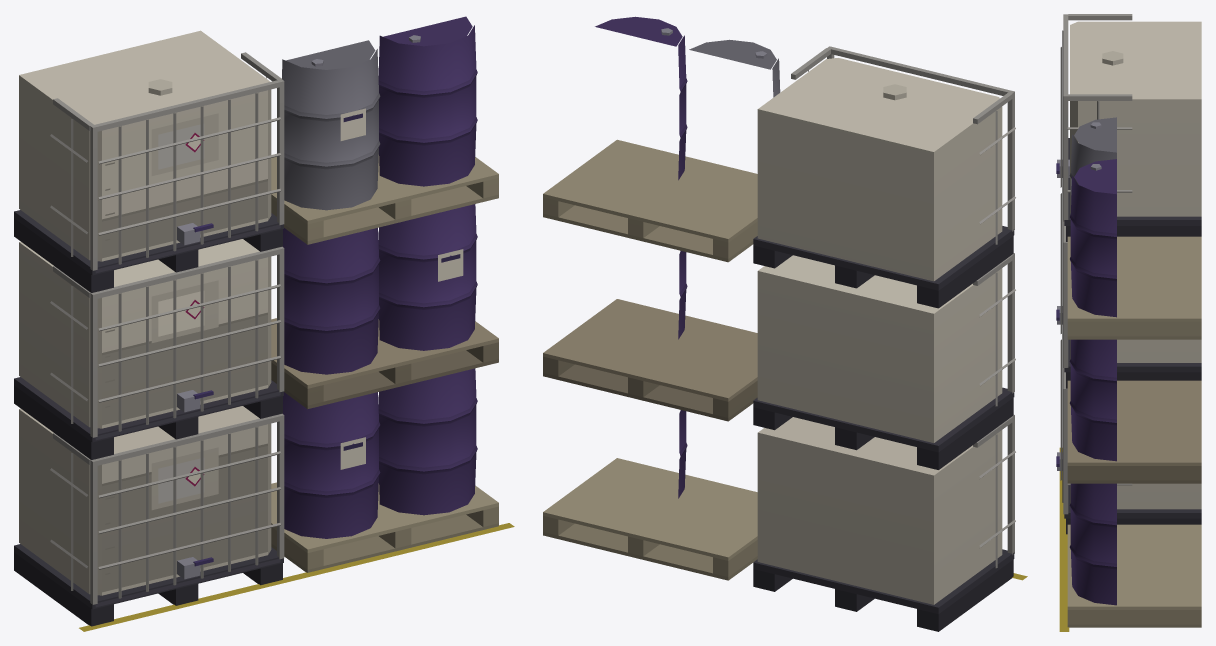
File: drum_ibc_stack.glb
3 renders of one model, left to right at view 1: azimuth 30°, elevation 25°; view 2: azimuth 150°, elevation 25°; view 3: azimuth 270°, elevation 25°, orthographic. The views are drawn at different scales.
Parts seen in each view (by area): view 1: drum_ibc_stack; view 2: drum_ibc_stack; view 3: drum_ibc_stack.
Boxes of the visible parts, x1,y1,x2,y2 form: drum_ibc_stack: (14, 16, 514, 631); drum_ibc_stack: (543, 16, 1027, 631); drum_ibc_stack: (1056, 14, 1201, 631).
Size of the model in its own units: 2.7 by 3 by 0.9.
